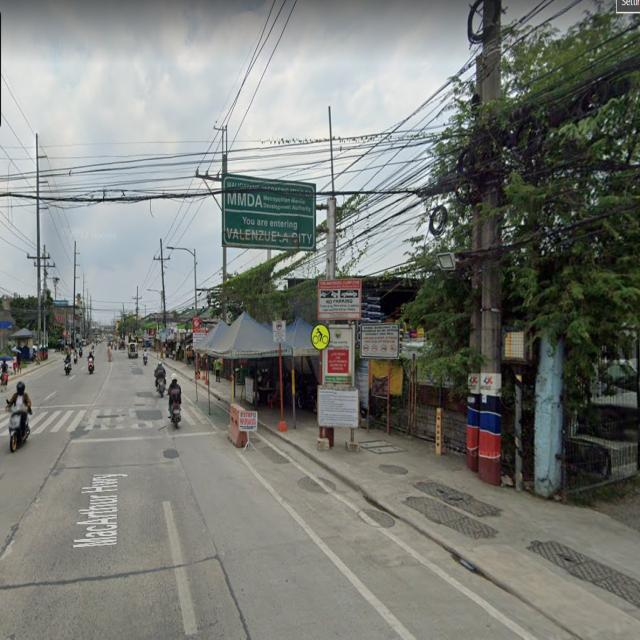bike lane: (311, 324, 331, 350)
